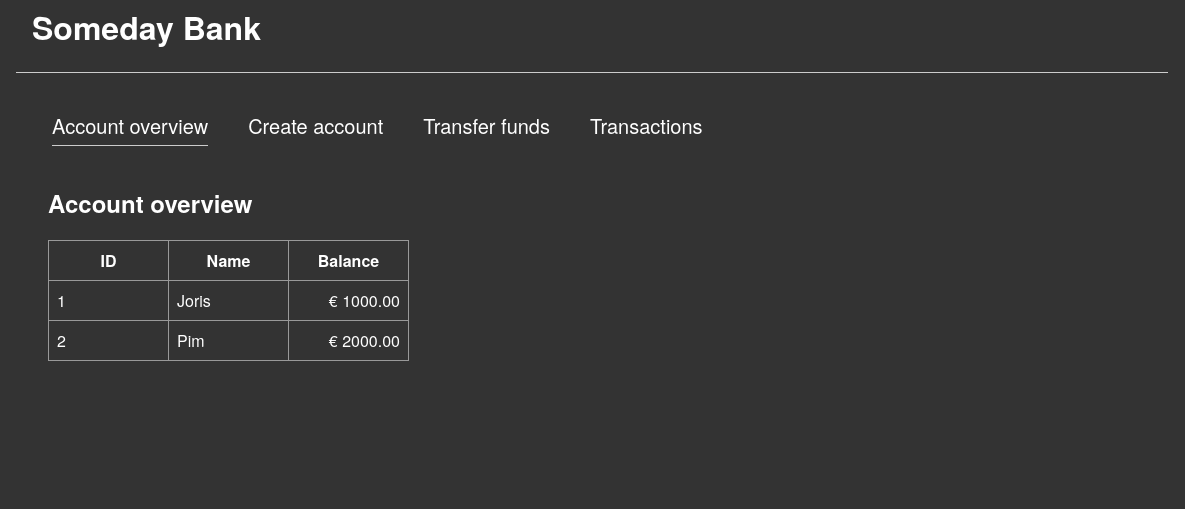
Test: Actions › should transfer money from one account to another
Click the link "Transfer funds" at {"x": 487, "y": 126}, box [423,111,550,140]
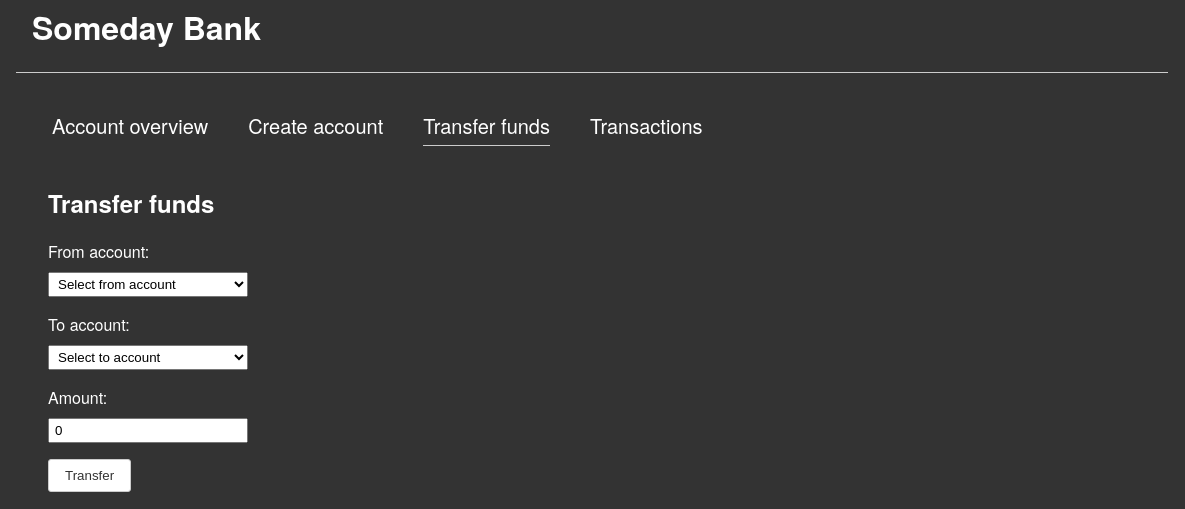
Select "Joris" in the dropdown with id "from_account" at {"x": 148, "y": 285}, box [48,272,248,297]
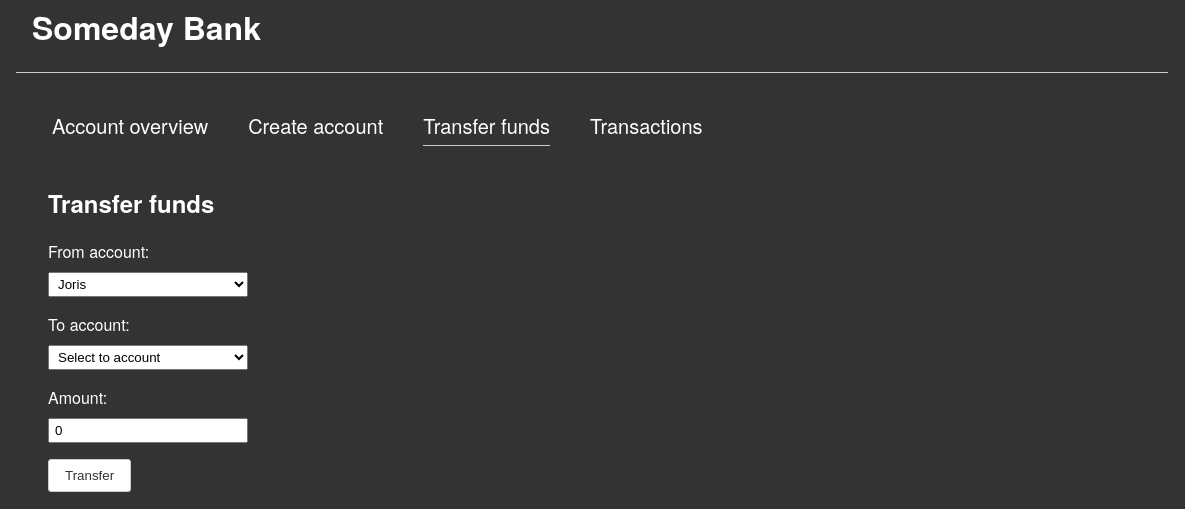
Select "Pim" in the dropdown with id "to_account" at {"x": 148, "y": 358}, box [48,345,248,370]
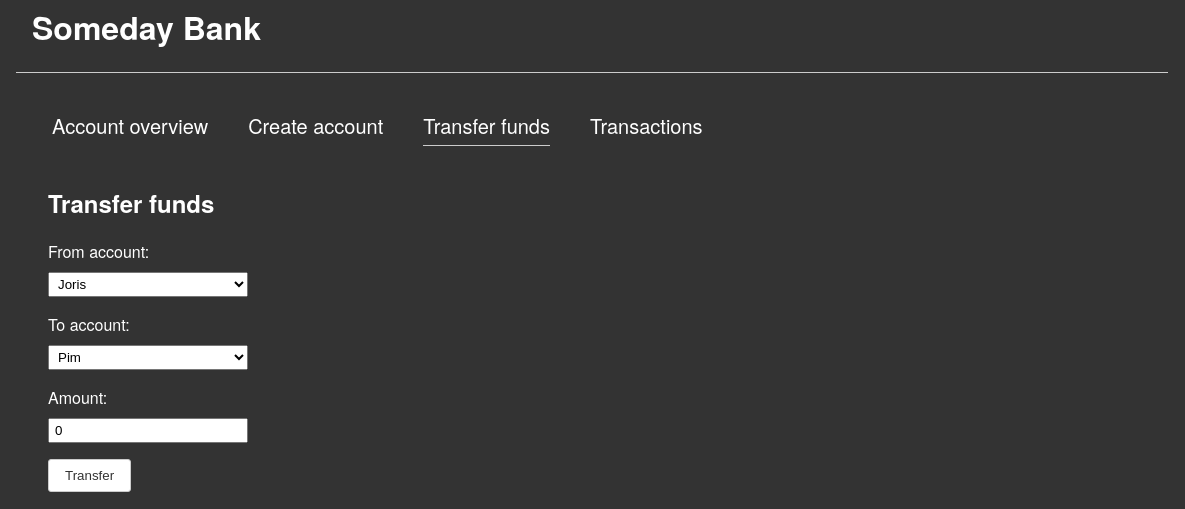
Type "100" into the number field named "amount" at {"x": 148, "y": 431}, box [48,418,248,443]
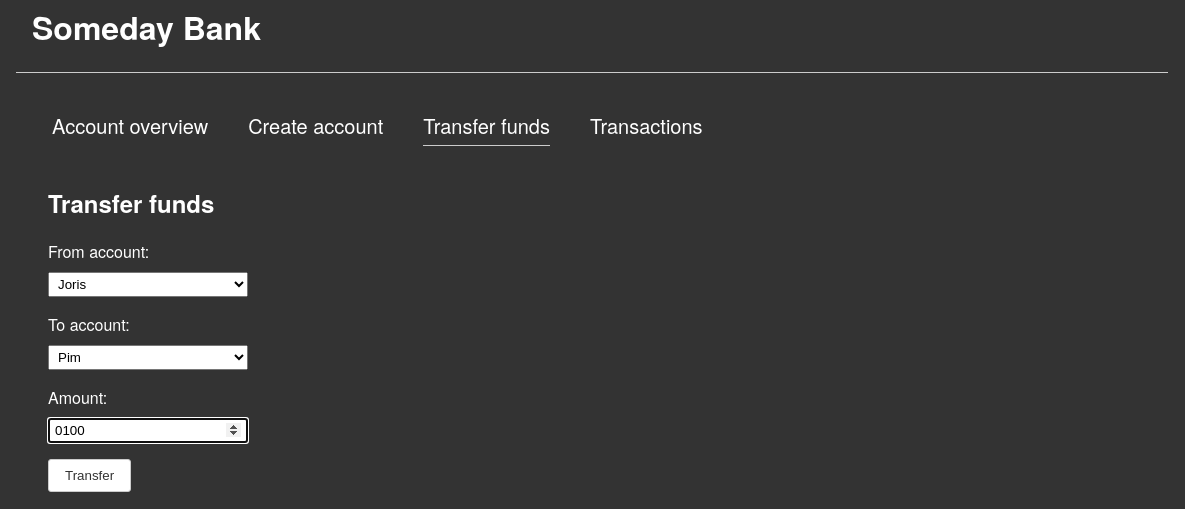
Click the button "Transfer" at {"x": 90, "y": 476}, box [48,459,131,492]
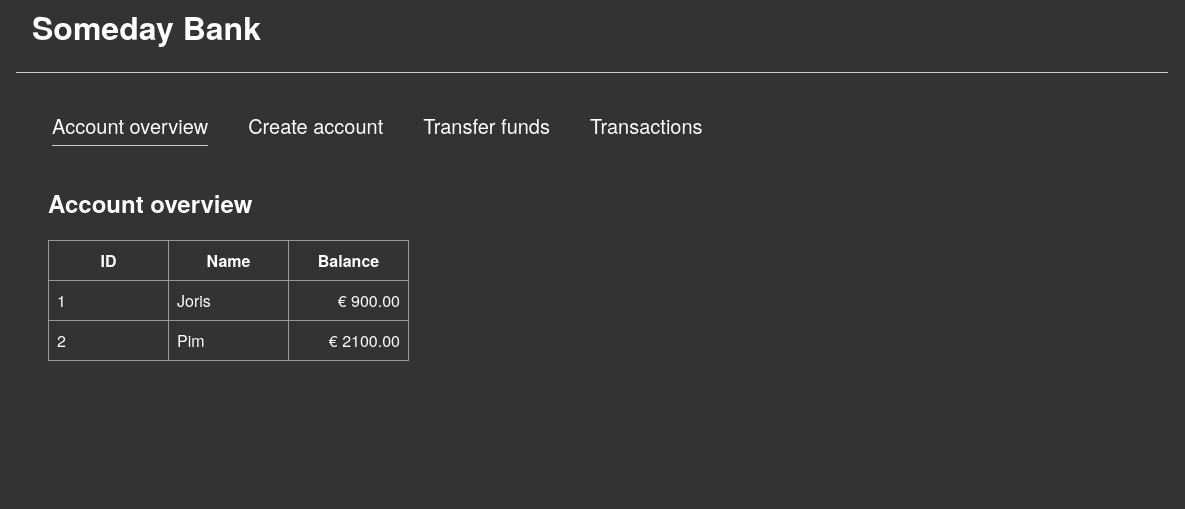
Result: the text "900.00" is shown at [338,289,400,312]
Result: the text "2100.00" is shown at [329,329,400,352]
